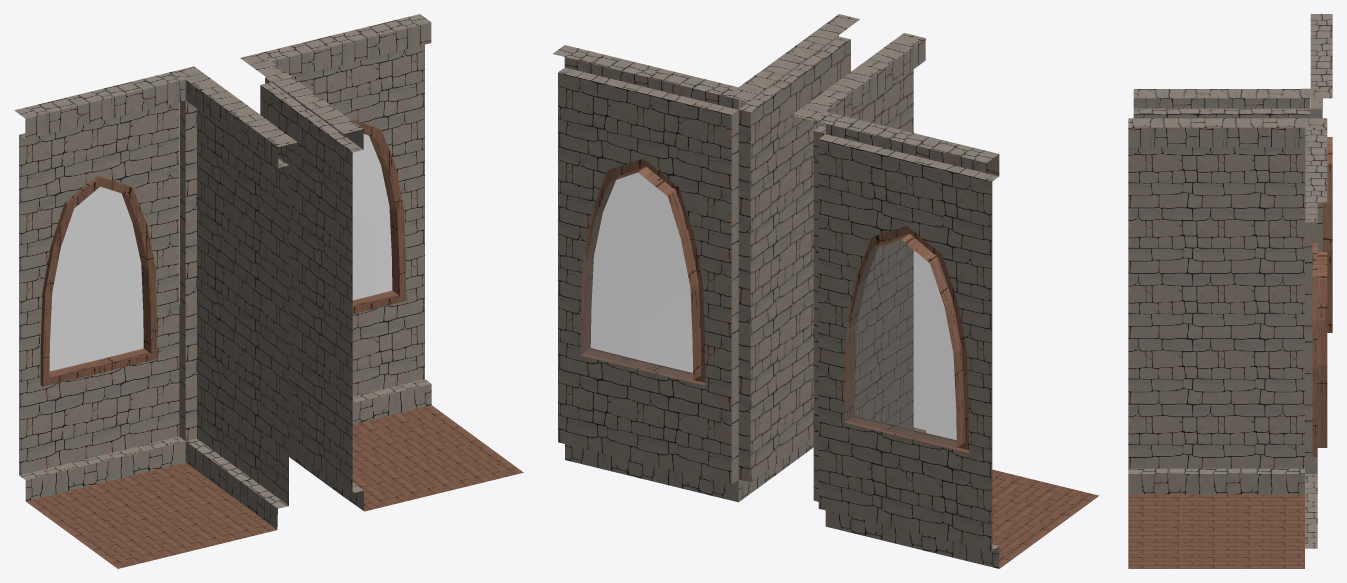
Rendered from Tileset 1_Window Middel.fbx.
3 views of the same model, side by side, from view 1: azimuth 30°, elevation 25°; view 2: azimuth 150°, elevation 25°; view 3: azimuth 270°, elevation 25° (orthographic). The views are drawn at different scales.
Parts seen in each view (by area): view 1: tile 030, tile 029; view 2: tile 029, tile 030; view 3: tile 029, tile 030.
Boxes of the visible parts, <box> form: tile 030: <box>14,66,297,568</box>; tile 029: <box>240,14,523,511</box>; tile 029: <box>553,14,859,502</box>; tile 030: <box>792,33,1098,568</box>; tile 029: <box>1128,118,1327,568</box>; tile 030: <box>1133,14,1332,332</box>.
Size of the model in its own units: 198 by 90.97 by 180.
